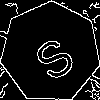S: (25, 27, 79, 84)
